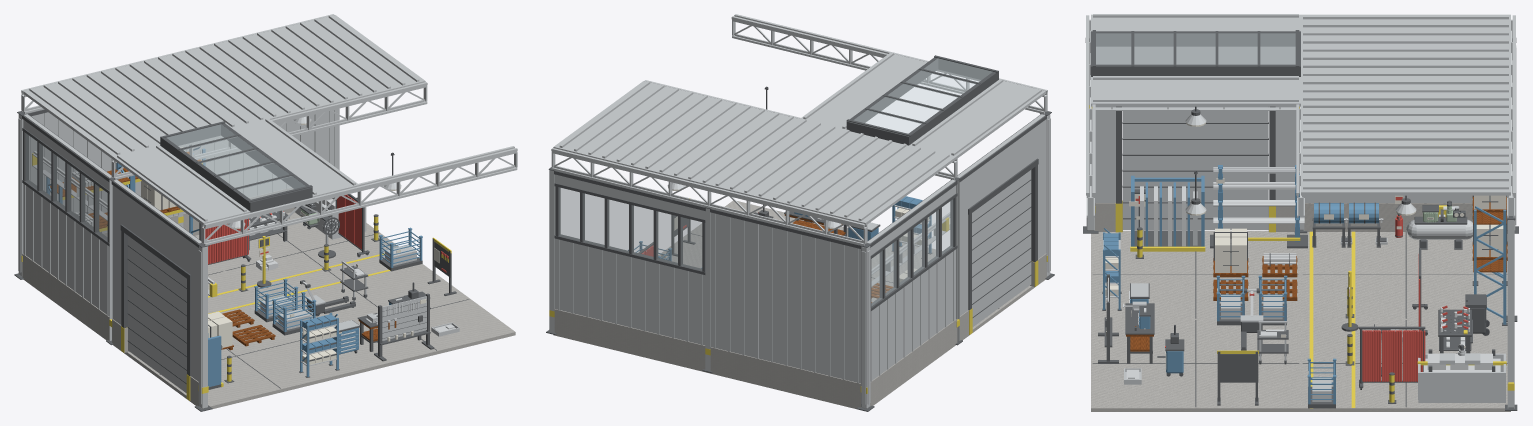
File: welding-bay-and-stores-corner.glb
3 renders of one model, left to right at view 1: azimuth 30°, elevation 25°; view 2: azimuth 150°, elevation 25°; view 3: azimuth 270°, elevation 25°, orthographic. The views are drawn at different scales.
Visible parts, largest first — view 1: 020-machine-shop-and-factory-hall-hall-roof-bay/0, 019-machine-shop-and-factory-hall-hall-roof-bay/0, 003-machine-shop-and-factory-hall-floor-tile-plain/0, 021-machine-shop-and-factory-hall-hall-skylight-bay/0, 007-machine-shop-and-factory-hall-hall-shutter-bay/shutter/c (×2), 006-machine-shop-and-factory-hall-hall-window-bay/0, 002-machine-shop-and-factory-hall-floor-tile-marked/0, 001-machine-shop-and-factory-hall-floor-tile-plain/0, 007-machine-shop-and-factory-hall-hall-shutter-bay/0, 021-machine-shop-and-factory-hall-hall-skylight-bay/1, 021-machine-shop-and-factory-hall-hall-skylight-bay/2, 005-machine-shop-and-factory-hall-hall-window-bay/0 (+32 smaller); view 2: 004-machine-shop-and-factory-hall-hall-wall-bay/0, 019-machine-shop-and-factory-hall-hall-roof-bay/0, 020-machine-shop-and-factory-hall-hall-roof-bay/0, 005-machine-shop-and-factory-hall-hall-window-bay/0, 021-machine-shop-and-factory-hall-hall-skylight-bay/0, 007-machine-shop-and-factory-hall-hall-shutter-bay/shutter/c (×2), 006-machine-shop-and-factory-hall-hall-window-bay/0, 005-machine-shop-and-factory-hall-hall-window-bay/2, 007-machine-shop-and-factory-hall-hall-shutter-bay/0, 021-machine-shop-and-factory-hall-hall-skylight-bay/1, 021-machine-shop-and-factory-hall-hall-skylight-bay/2, 005-machine-shop-and-factory-hall-hall-window-bay/3 (+22 smaller); view 3: 020-machine-shop-and-factory-hall-hall-roof-bay/0, 019-machine-shop-and-factory-hall-hall-roof-bay/0, 003-machine-shop-and-factory-hall-floor-tile-plain/0, 007-machine-shop-and-factory-hall-hall-shutter-bay/shutter/c (×2), 000-machine-shop-and-factory-hall-floor-tile-marked/0, 021-machine-shop-and-factory-hall-hall-skylight-bay/0, 001-machine-shop-and-factory-hall-floor-tile-plain/0, 002-machine-shop-and-factory-hall-floor-tile-marked/0, 007-machine-shop-and-factory-hall-hall-shutter-bay/0, 021-machine-shop-and-factory-hall-hall-skylight-bay/1, 021-machine-shop-and-factory-hall-hall-skylight-bay/2, 033-machine-shop-and-factory-hall-scrap-skip/0 (+52 smaller).
Part boxes in pixels (<box>): 020-machine-shop-and-factory-hall-hall-roof-bay/0: <box>180,15,425,119</box>; 019-machine-shop-and-factory-hall-hall-roof-bay/0: <box>23,53,268,159</box>; 003-machine-shop-and-factory-hall-floor-tile-plain/0: <box>289,266,515,372</box>; 021-machine-shop-and-factory-hall-hall-skylight-bay/0: <box>113,118,359,225</box>; 007-machine-shop-and-factory-hall-hall-shutter-bay/shutter/c (×2): <box>127,236,186,392</box>; 006-machine-shop-and-factory-hall-hall-window-bay/0: <box>23,114,111,315</box>; 002-machine-shop-and-factory-hall-floor-tile-marked/0: <box>195,212,424,299</box>; 001-machine-shop-and-factory-hall-floor-tile-plain/0: <box>113,306,359,408</box>; 007-machine-shop-and-factory-hall-hall-shutter-bay/0: <box>113,180,201,381</box>; 021-machine-shop-and-factory-hall-hall-skylight-bay/1: <box>160,121,312,212</box>; 021-machine-shop-and-factory-hall-hall-skylight-bay/2: <box>167,124,305,199</box>; 005-machine-shop-and-factory-hall-hall-window-bay/0: <box>183,110,333,213</box>; 004-machine-shop-and-factory-hall-hall-wall-bay/0: <box>711,212,860,383</box>; 019-machine-shop-and-factory-hall-hall-roof-bay/0: <box>709,119,955,225</box>; 020-machine-shop-and-factory-hall-hall-roof-bay/0: <box>553,81,798,185</box>; 005-machine-shop-and-factory-hall-hall-window-bay/0: <box>555,174,705,345</box>; 021-machine-shop-and-factory-hall-hall-skylight-bay/0: <box>800,52,1045,159</box>; 007-machine-shop-and-factory-hall-hall-shutter-bay/shutter/c (×2): <box>972,170,1031,326</box>; 006-machine-shop-and-factory-hall-hall-window-bay/0: <box>867,179,955,381</box>; 005-machine-shop-and-factory-hall-hall-window-bay/2: <box>559,187,702,270</box>; 007-machine-shop-and-factory-hall-hall-shutter-bay/0: <box>957,114,1045,315</box>; 021-machine-shop-and-factory-hall-hall-skylight-bay/1: <box>846,55,998,145</box>; 021-machine-shop-and-factory-hall-hall-skylight-bay/2: <box>854,58,992,133</box>; 005-machine-shop-and-factory-hall-hall-window-bay/3: <box>554,171,705,274</box>; 020-machine-shop-and-factory-hall-hall-roof-bay/0: <box>1301,103,1510,195</box>; 019-machine-shop-and-factory-hall-hall-roof-bay/0: <box>1301,14,1510,103</box>; 003-machine-shop-and-factory-hall-floor-tile-plain/0: <box>1091,319,1300,411</box>; 007-machine-shop-and-factory-hall-hall-shutter-bay/shutter/c (×2): <box>1122,106,1268,229</box>; 000-machine-shop-and-factory-hall-floor-tile-marked/0: <box>1301,232,1507,319</box>; 021-machine-shop-and-factory-hall-hall-skylight-bay/0: <box>1091,14,1300,106</box>; 001-machine-shop-and-factory-hall-floor-tile-plain/0: <box>1091,230,1300,319</box>; 002-machine-shop-and-factory-hall-floor-tile-marked/0: <box>1301,319,1510,411</box>; 007-machine-shop-and-factory-hall-hall-shutter-bay/0: <box>1096,46,1296,202</box>; 021-machine-shop-and-factory-hall-hall-skylight-bay/1: <box>1090,30,1300,79</box>; 021-machine-shop-and-factory-hall-hall-skylight-bay/2: <box>1096,33,1295,64</box>; 033-machine-shop-and-factory-hall-scrap-skip/0: <box>1418,353,1505,402</box>.
Bounding box in the file's own units: 12.4 × 7.27 × 12.44.
12 materials, 2 textured.
